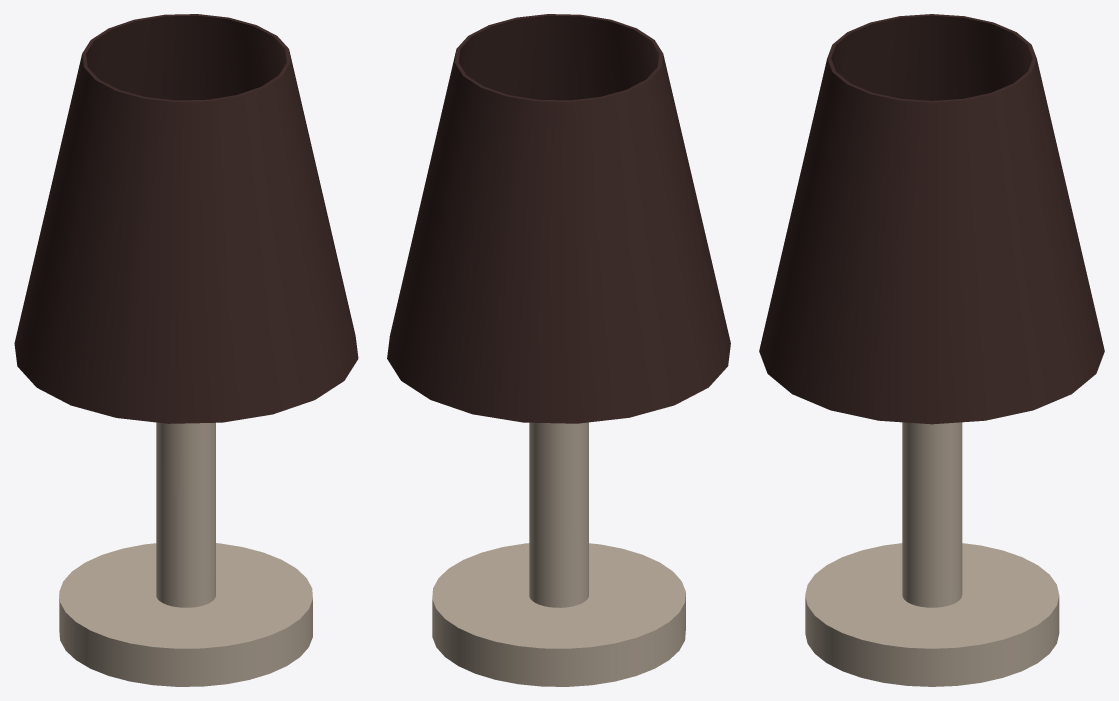
Rendered from LampeChevet2_2.fbx.
3 views of the same model, side by side, from view 1: azimuth 30°, elevation 25°; view 2: azimuth 150°, elevation 25°; view 3: azimuth 270°, elevation 25° (orthographic).
Visible parts, largest first — view 1: pPipe109, pCylinder763; view 2: pPipe109, pCylinder763; view 3: pPipe109, pCylinder763.
Boxes of the visible parts, bbox=[...] form: pPipe109: bbox=[14, 14, 358, 423]; pCylinder763: bbox=[59, 422, 312, 686]; pPipe109: bbox=[387, 14, 730, 423]; pCylinder763: bbox=[432, 422, 685, 686]; pPipe109: bbox=[759, 14, 1104, 424]; pCylinder763: bbox=[805, 422, 1059, 686].
Bounding box in the file's own units: 13.33 × 24.46 × 13.33.
